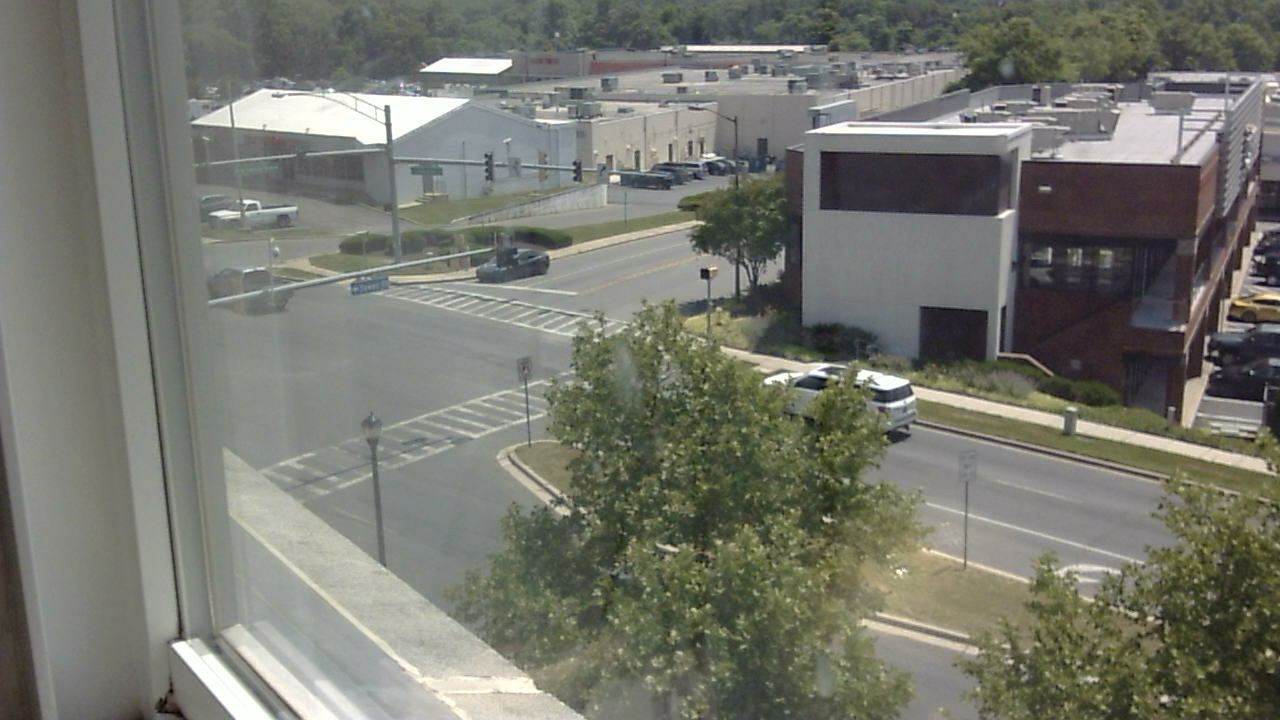Car: (749, 351, 956, 448), (486, 248, 561, 288)
Truck: (208, 258, 302, 334)
